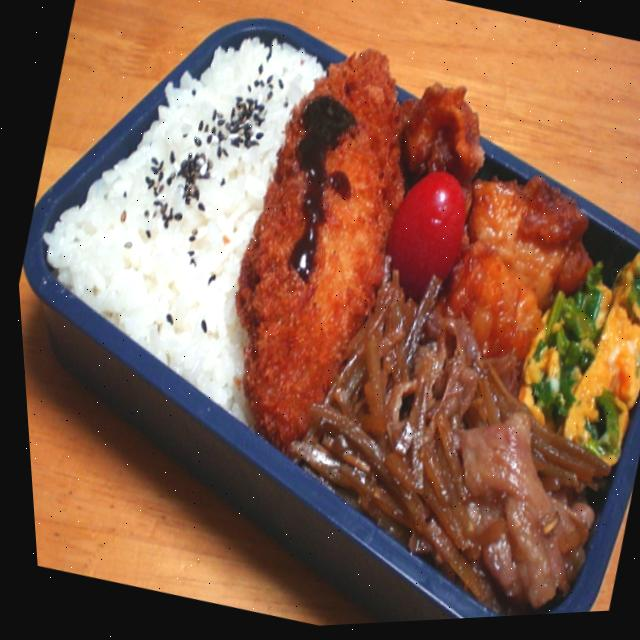炸货点心: (149, 29, 452, 458)
熟制海鲜: (149, 29, 452, 458)
